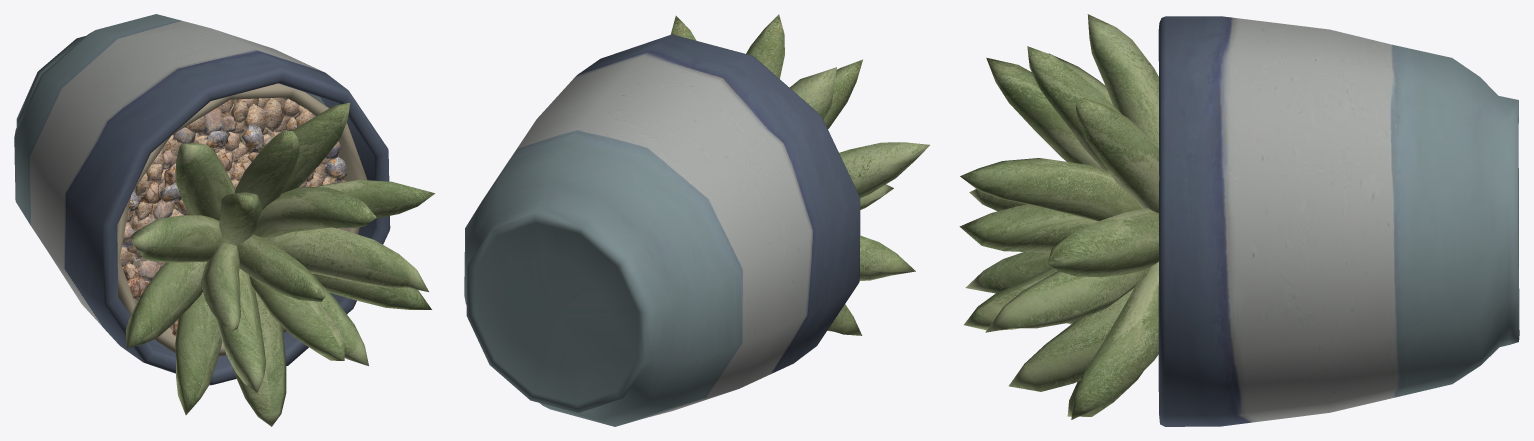
The model's file is succulent-opt.glb.
3 renders of one model, left to right at view 1: azimuth 30°, elevation 25°; view 2: azimuth 150°, elevation 25°; view 3: azimuth 270°, elevation 25°, orthographic. The views are drawn at different scales.
Visible parts, largest first — view 1: G-cactus_gasteria_1; view 2: G-cactus_gasteria_1; view 3: G-cactus_gasteria_1.
Part boxes in pixels (x1,y1,x2,y2): G-cactus_gasteria_1: (14,14,434,426); G-cactus_gasteria_1: (464,14,929,426); G-cactus_gasteria_1: (959,14,1519,426).
Bounding box in the file's own units: 0.118 × 0.1156 × 0.1517.
Materials: 5 (5 with a texture image).
